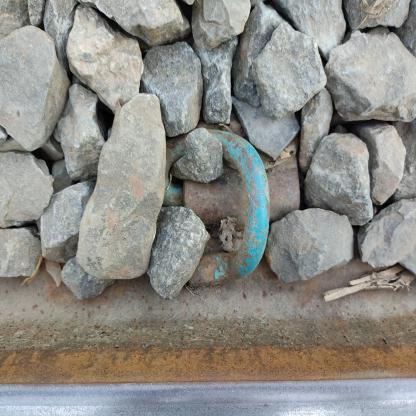Non Defective 1: (131, 119, 294, 304)
